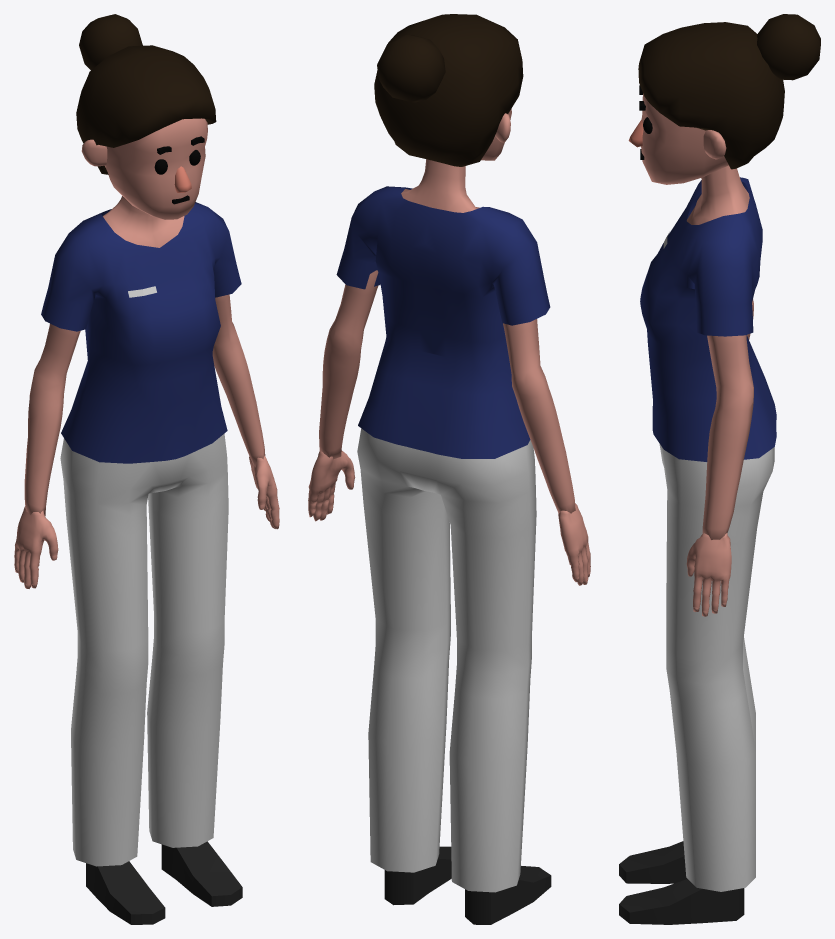
Rendered from nurse_test.fbx.
The picture shows the model from 3 angles, left to right: view 1: azimuth 30°, elevation 25°; view 2: azimuth 150°, elevation 25°; view 3: azimuth 270°, elevation 25°; orthographic projection. The views are drawn at different scales.
Parts seen in each view (by area): view 1: Cylinder001, Shirt, Game_body_Clothes, hair2, shoe, Box001, hands002, hair_knut; view 2: Cylinder001, Shirt, hair2, Game_body_Clothes, shoe, hands002, hair_knut; view 3: Cylinder001, Shirt, hair2, Game_body_Clothes, shoe, Box001, hair_knut, hands002, Ears.
Part boxes in pixels (x1,y1,x2,y2): Cylinder001: (60, 433, 228, 866); Shirt: (41, 202, 241, 463); Game_body_Clothes: (24, 196, 265, 516); hair2: (76, 45, 216, 174); shoe: (86, 841, 242, 924); Box001: (104, 118, 207, 219); hands002: (14, 455, 279, 588); hair_knut: (79, 14, 142, 69); Cylinder001: (357, 428, 536, 892); Shirt: (336, 186, 550, 458); hair2: (374, 14, 523, 166); Game_body_Clothes: (319, 159, 575, 513); shoe: (384, 846, 551, 924); hands002: (308, 450, 590, 585); hair_knut: (377, 34, 445, 102); Cylinder001: (659, 443, 774, 891); Shirt: (640, 177, 776, 461); hair2: (638, 22, 784, 169); Game_body_Clothes: (686, 165, 753, 539); shoe: (619, 841, 744, 924); Box001: (641, 93, 728, 184); hair_knut: (757, 14, 820, 80); hands002: (686, 533, 731, 616); Ears: (703, 130, 726, 159).
Size of the model in its own units: 65.58 by 207 by 43.14.
